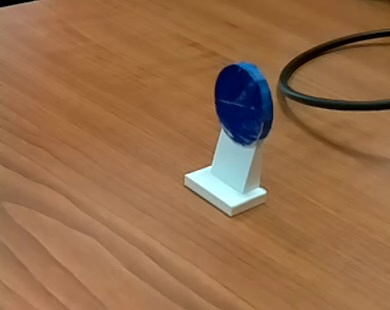circle: (155, 59, 305, 225)
